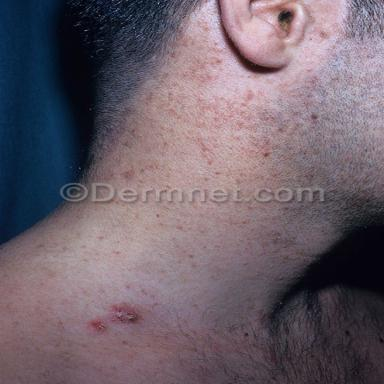Darier_s-Disease: (143, 16, 292, 165), (284, 72, 321, 108)
